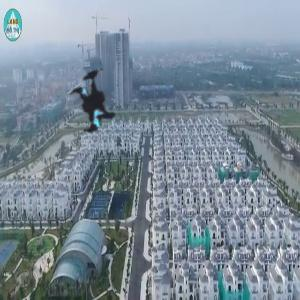drone: (34, 42, 157, 165)
